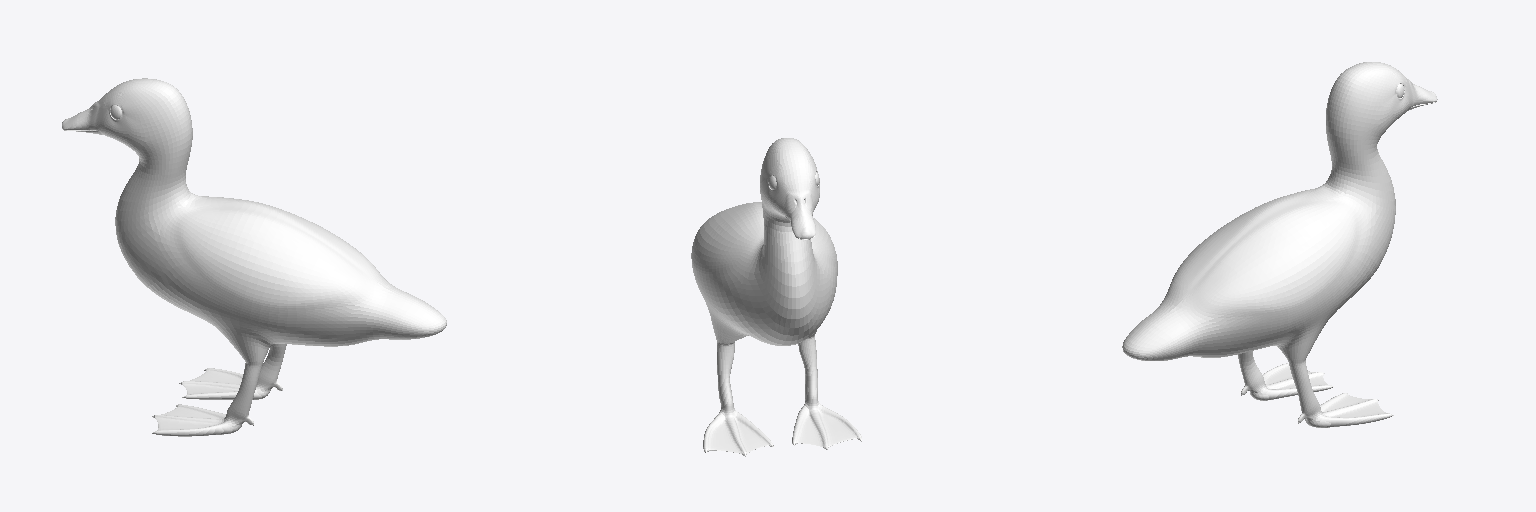
The model's file is Ratusca4.obj.
3 views of the same model, side by side, from view 1: azimuth 30°, elevation 25°; view 2: azimuth 150°, elevation 25°; view 3: azimuth 270°, elevation 25° (orthographic).
Parts seen in each view (by area): view 1: 12250_Bird_v1_L3.003; view 2: 12250_Bird_v1_L3.003; view 3: 12250_Bird_v1_L3.003.
Boxes of the visible parts, box(x1,y1,x2,y2) form: 12250_Bird_v1_L3.003: box(62, 78, 446, 436); 12250_Bird_v1_L3.003: box(691, 138, 861, 456); 12250_Bird_v1_L3.003: box(1122, 62, 1437, 427).
Bounding box in the file's own units: 0.352 × 0.4476 × 0.4008.